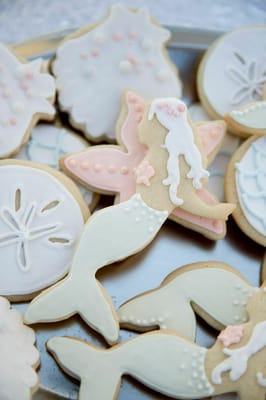sushi: (11, 3, 185, 145)
